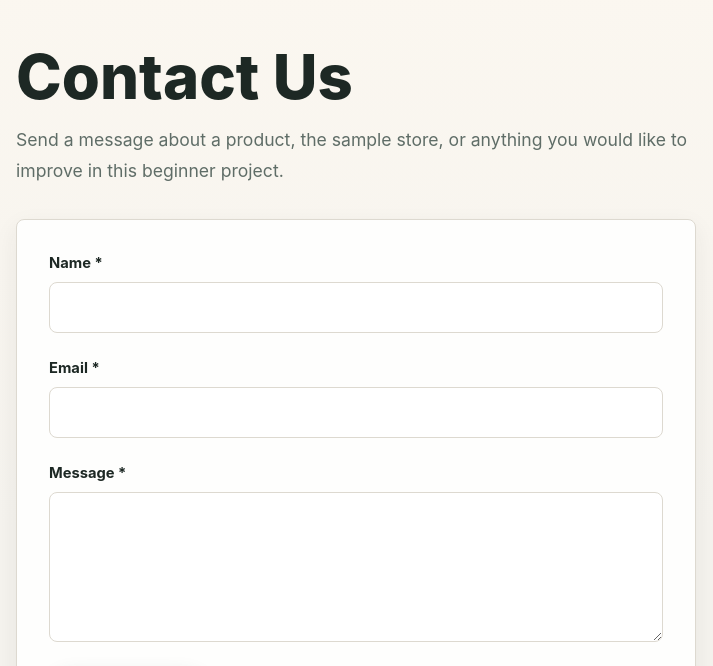
Test: ContactForm › submits valid values, logs the form, resets fields, and shows success
This screenshot has width=713, height=666.
Type "Mina" into the field labelled "Name *" at (356, 307), box [49, 282, 663, 333]
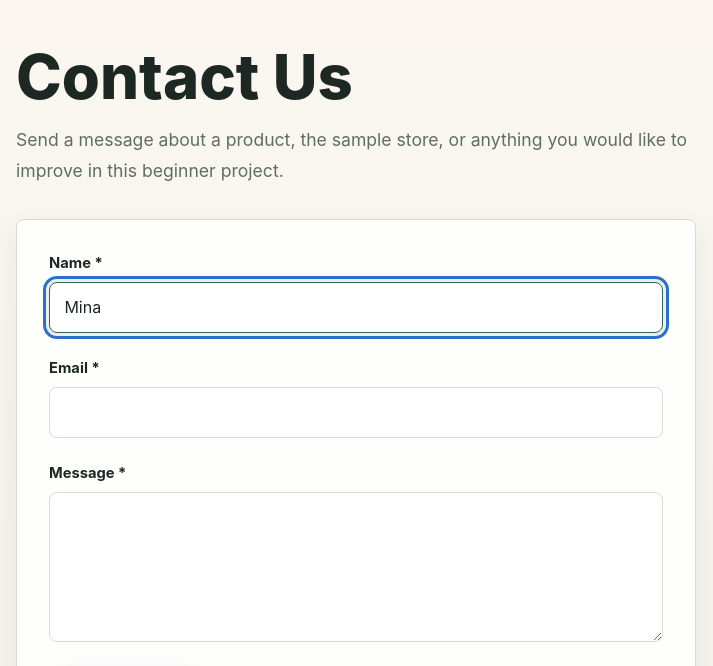
Type "mina@example.com" into the field labelled "Email *" at (356, 412), box [49, 387, 663, 438]
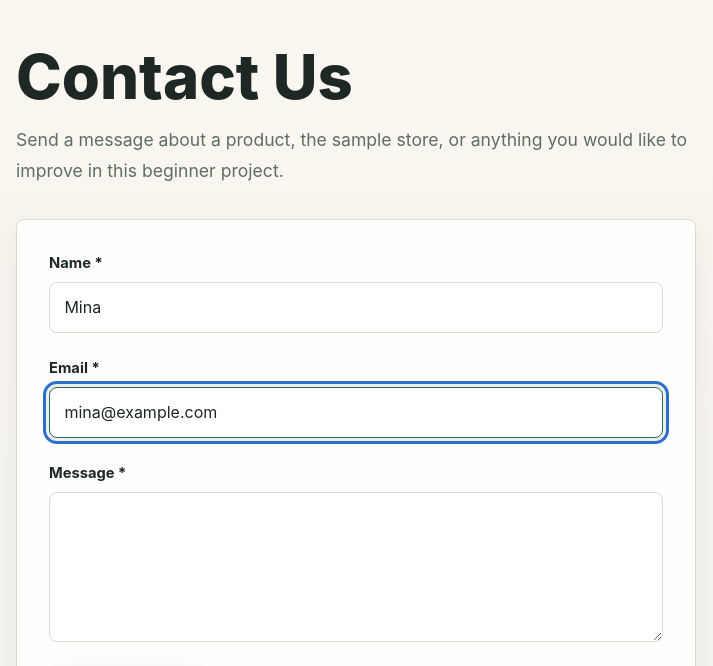
Type "I love the store." into the text box labelled "Message *" at (356, 567), box [49, 492, 663, 642]
(page scrolled)
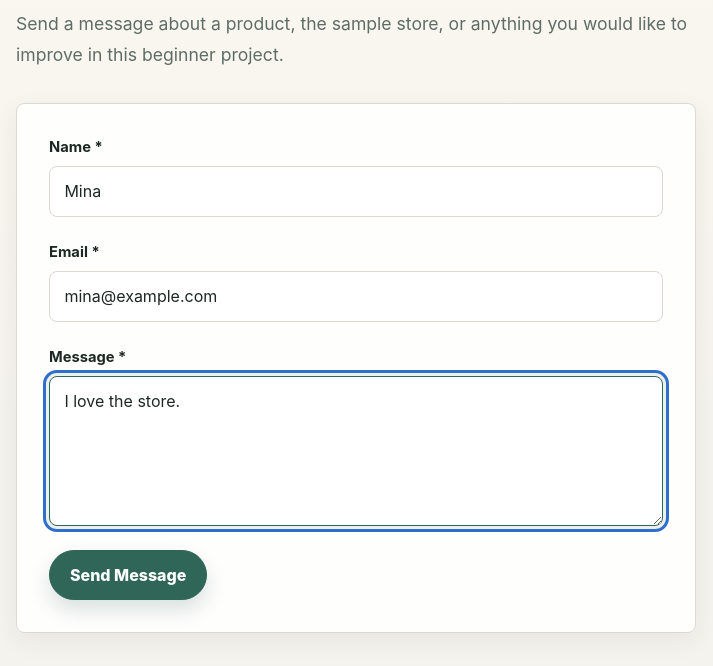
Click the button "Send Message" at (128, 575), box [49, 550, 207, 600]
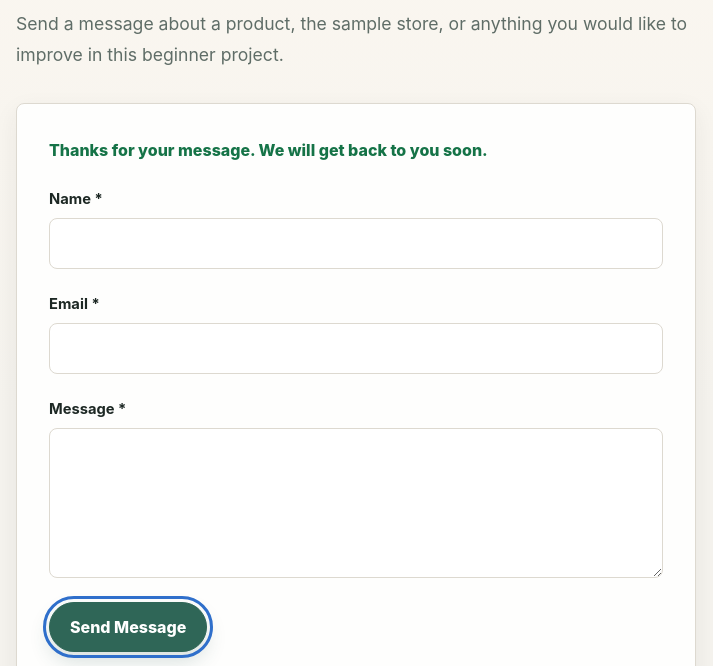
Check: the message shows "Thanks for your message", box [49, 140, 488, 160]
Check: the field labelled "Name *" is empty, box [49, 218, 663, 269]
